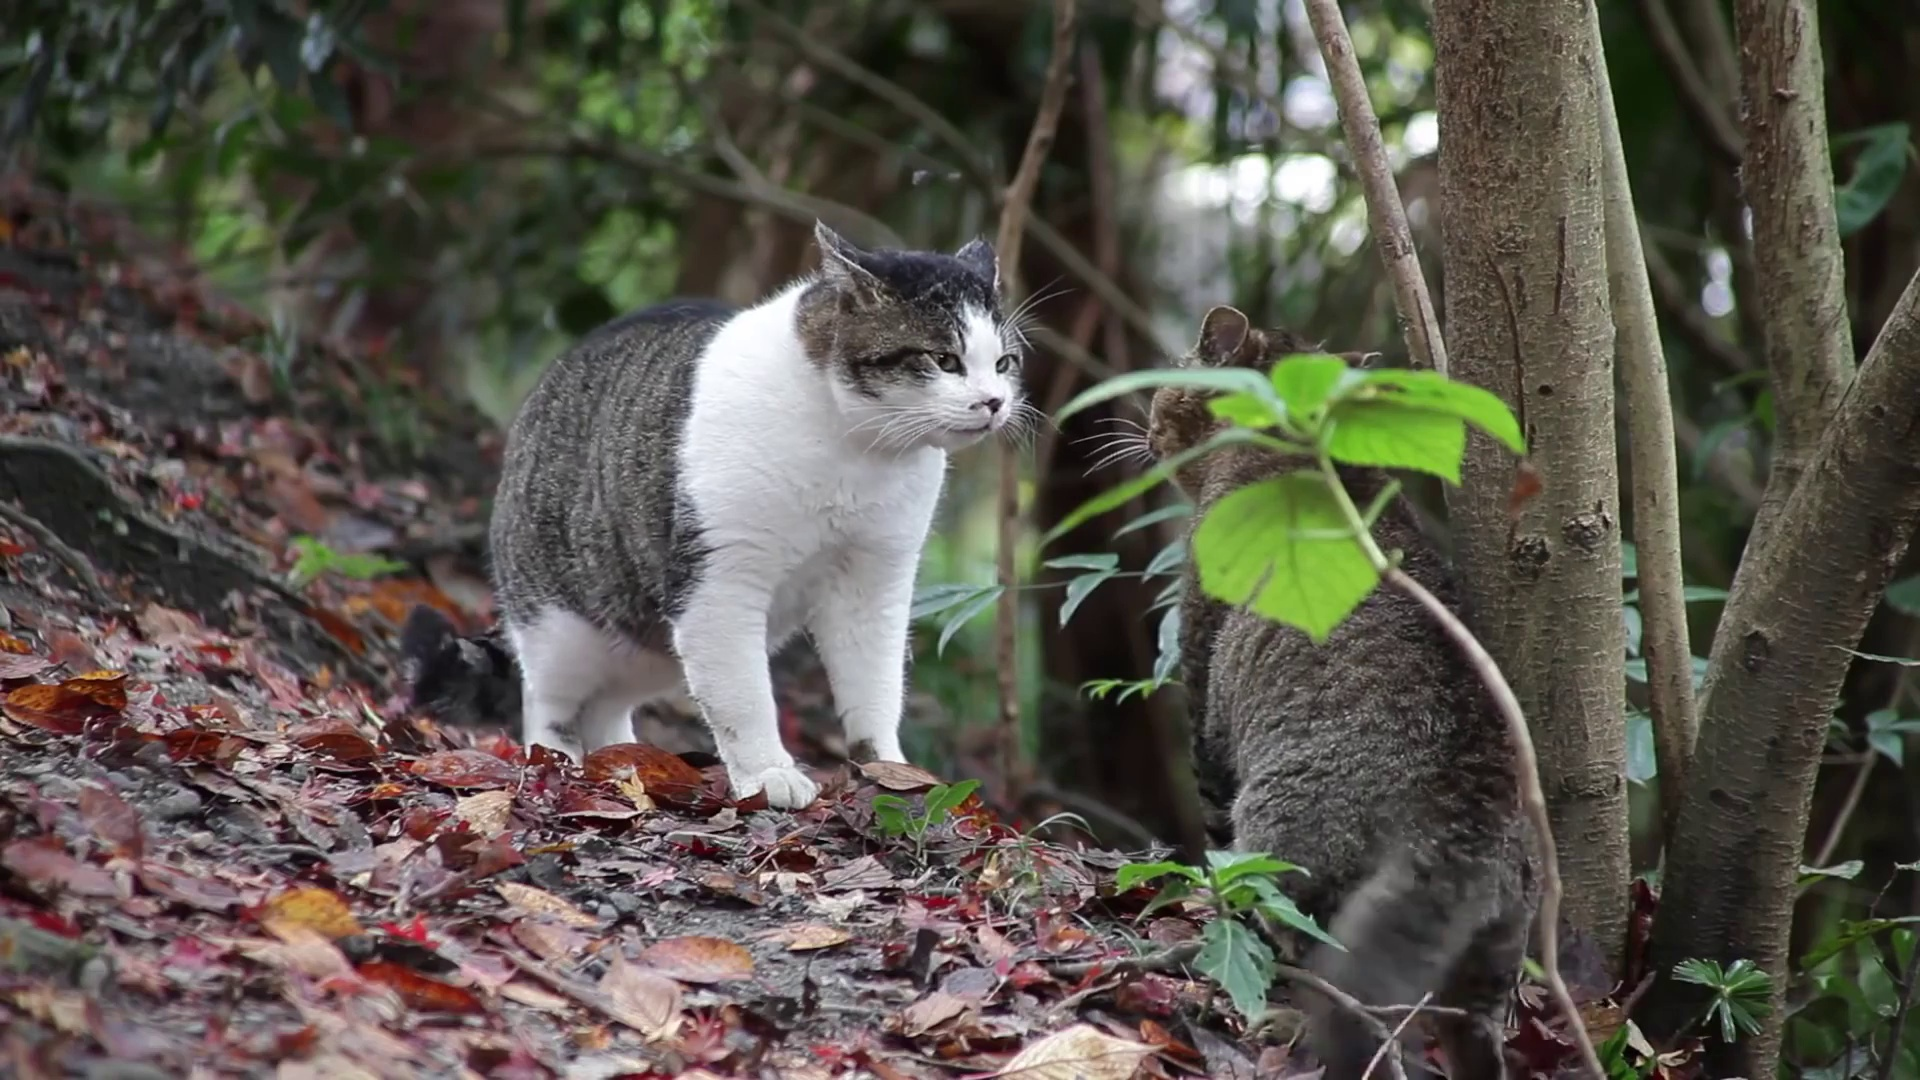black-white: (483, 222, 1021, 808)
pure black: (1145, 303, 1545, 1031)
